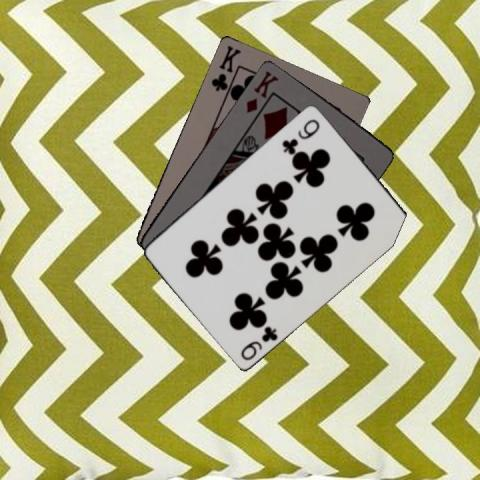9c: (279, 115, 321, 154), (238, 322, 280, 361)
Kc: (208, 41, 243, 93)
Kd: (243, 67, 280, 114)
